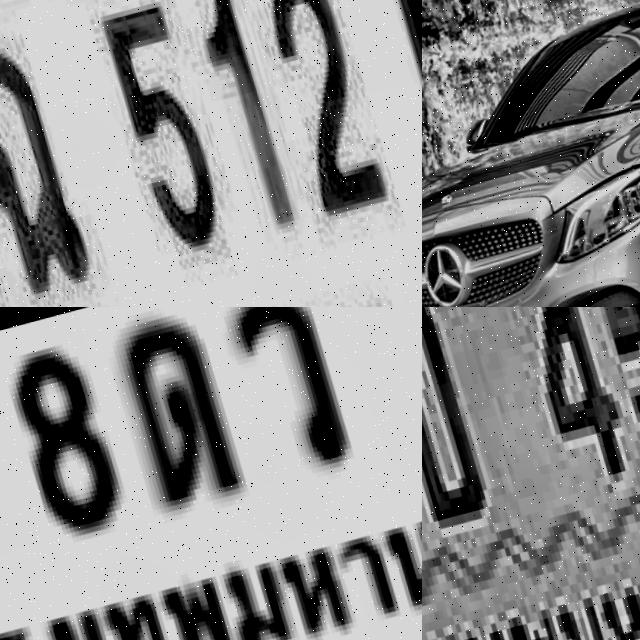license-plate: (0, 307, 422, 640), (0, 0, 422, 307), (422, 307, 640, 640)
